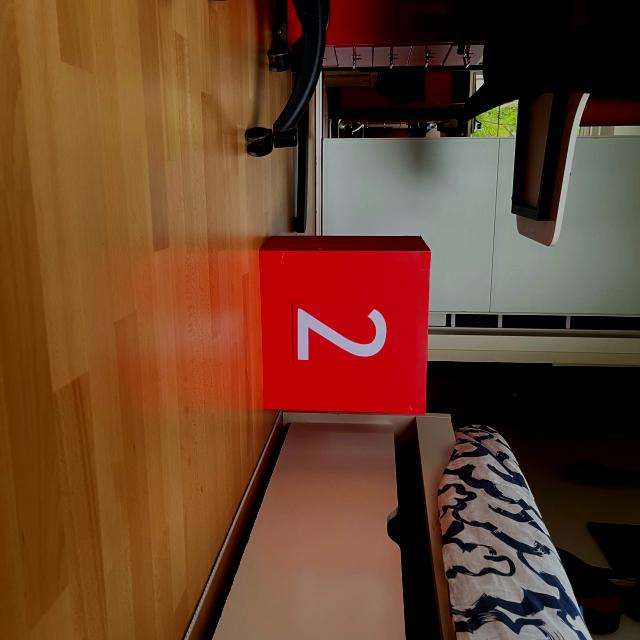box: (255, 231, 433, 416)
